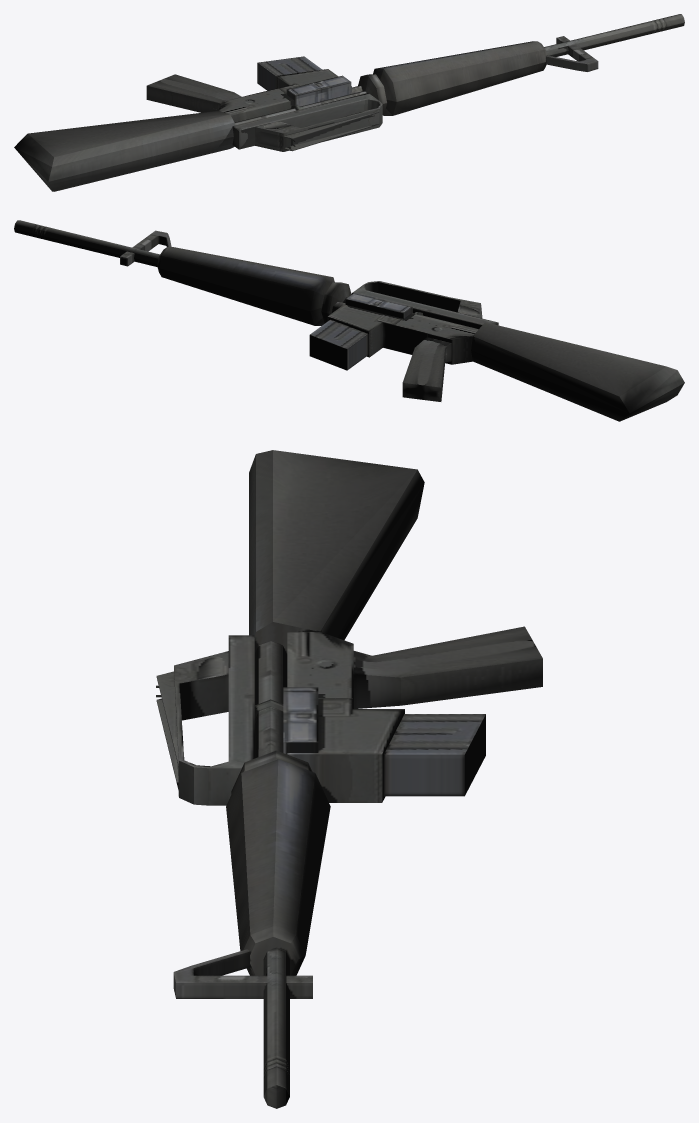
The picture shows the model from 3 angles, top to bottom: view 1: azimuth 30°, elevation 25°; view 2: azimuth 150°, elevation 25°; view 3: azimuth 270°, elevation 25°; orthographic projection. The views are drawn at different scales.
Visible parts, largest first — view 1: Cylinder.009_Cylinder.002; view 2: Cylinder.009_Cylinder.002; view 3: Cylinder.009_Cylinder.002.
Boxes of the visible parts, x1,y1,x2,y2 form: Cylinder.009_Cylinder.002: (14, 14, 684, 191); Cylinder.009_Cylinder.002: (14, 220, 684, 421); Cylinder.009_Cylinder.002: (156, 450, 542, 1108).
Size of the model in its own units: 9.38 by 0.6638 by 2.46.
